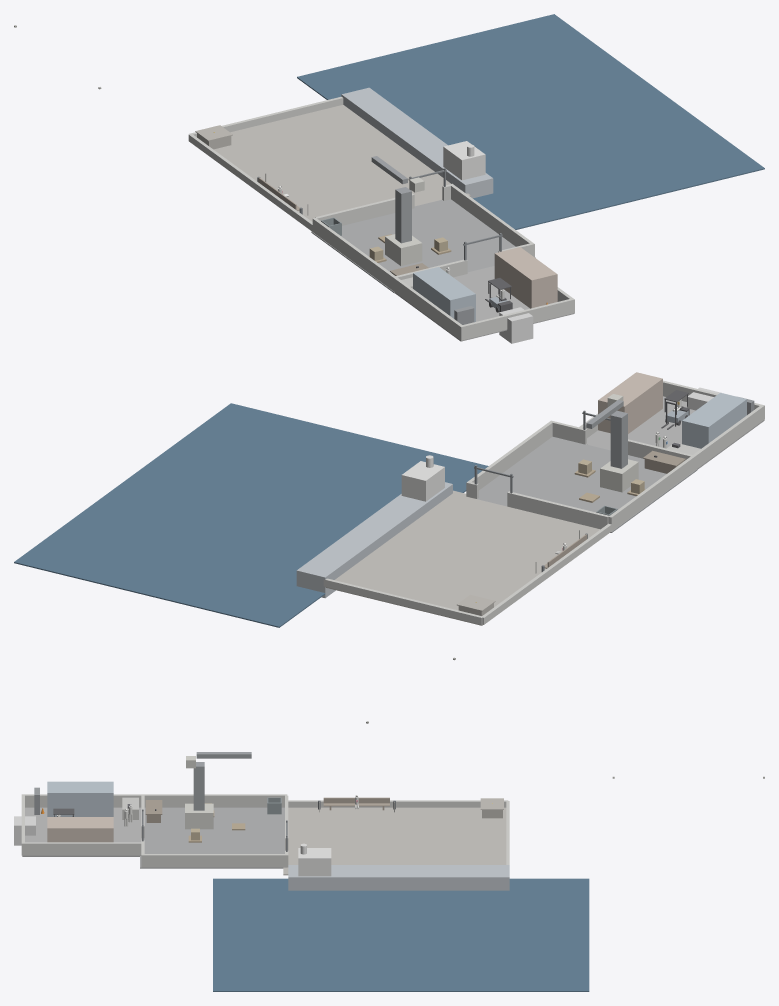
3 renders of one model, top to bottom at view 1: azimuth 30°, elevation 25°; view 2: azimuth 150°, elevation 25°; view 3: azimuth 270°, elevation 25°, orthographic. The views are drawn at different scales.
Visible parts, largest first — view 1: water, floor_quay, floor_cranebase, ship_hull, container_R, container_L, floor_lot, wall_lot_S, wall_s02_W, wall_quay_W, wall_s02_E, ship_superstructure (+6 smaller); view 2: water, floor_quay, floor_cranebase, ship_hull, container_R, container_L, floor_lot, wall_s02_N_W, wall_s02_W, wall_quay_N, wall_quay_W, ship_superstructure (+4 smaller); view 3: water, floor_quay, floor_cranebase, ship_hull, container_L, wall_s02_E, container_R, wall_lot_E, floor_lot, wall_s02_W, wall_quay_W, ship_superstructure (+5 smaller).
Boxes of the visible parts, <box> form: water: <box>297,14,764,229</box>; floor_quay: <box>213,105,470,221</box>; floor_cranebase: <box>311,199,535,293</box>; ship_hull: <box>341,87,493,198</box>; container_R: <box>494,247,557,308</box>; container_L: <box>413,267,475,322</box>; floor_lot: <box>395,266,574,341</box>; wall_lot_S: <box>459,298,574,340</box>; wall_s02_W: <box>312,217,395,291</box>; wall_quay_W: <box>188,133,313,232</box>; wall_s02_E: <box>451,185,534,257</box>; ship_superstructure: <box>443,141,485,180</box>; water: <box>14,403,488,627</box>; floor_quay: <box>325,490,600,625</box>; floor_cranebase: <box>466,436,697,532</box>; ship_hull: <box>296,482,452,598</box>; container_R: <box>598,372,662,433</box>; container_L: <box>682,392,746,448</box>; floor_lot: <box>586,396,764,469</box>; wall_s02_N_W: <box>507,491,609,529</box>; wall_s02_W: <box>608,456,695,530</box>; wall_quay_N: <box>323,578,482,624</box>; wall_quay_W: <box>481,523,611,624</box>; ship_superstructure: <box>401,461,444,501</box>; water: <box>213,878,589,991</box>; floor_quay: <box>283,807,506,875</box>; floor_cranebase: <box>140,807,288,868</box>; ship_hull: <box>288,865,509,890</box>; container_L: <box>47,781,113,816</box>; wall_s02_E: <box>141,854,287,867</box>; container_R: <box>47,817,113,842</box>; wall_lot_E: <box>25,842,141,855</box>; floor_lot: <box>22,807,143,856</box>; wall_s02_W: <box>143,794,287,807</box>; wall_quay_W: <box>288,800,508,807</box>; ship_superstructure: <box>298,848,331,876</box>.
Size of the model in its own units: 41.19 by 8.1 by 67.89.
